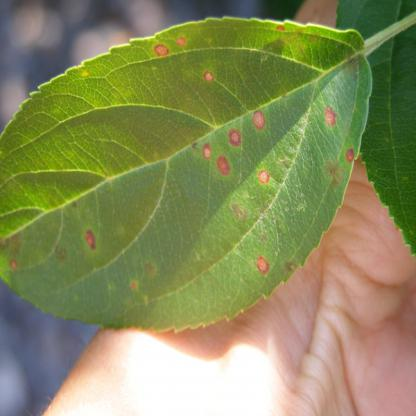apple rust leaf: (1, 6, 388, 335)
